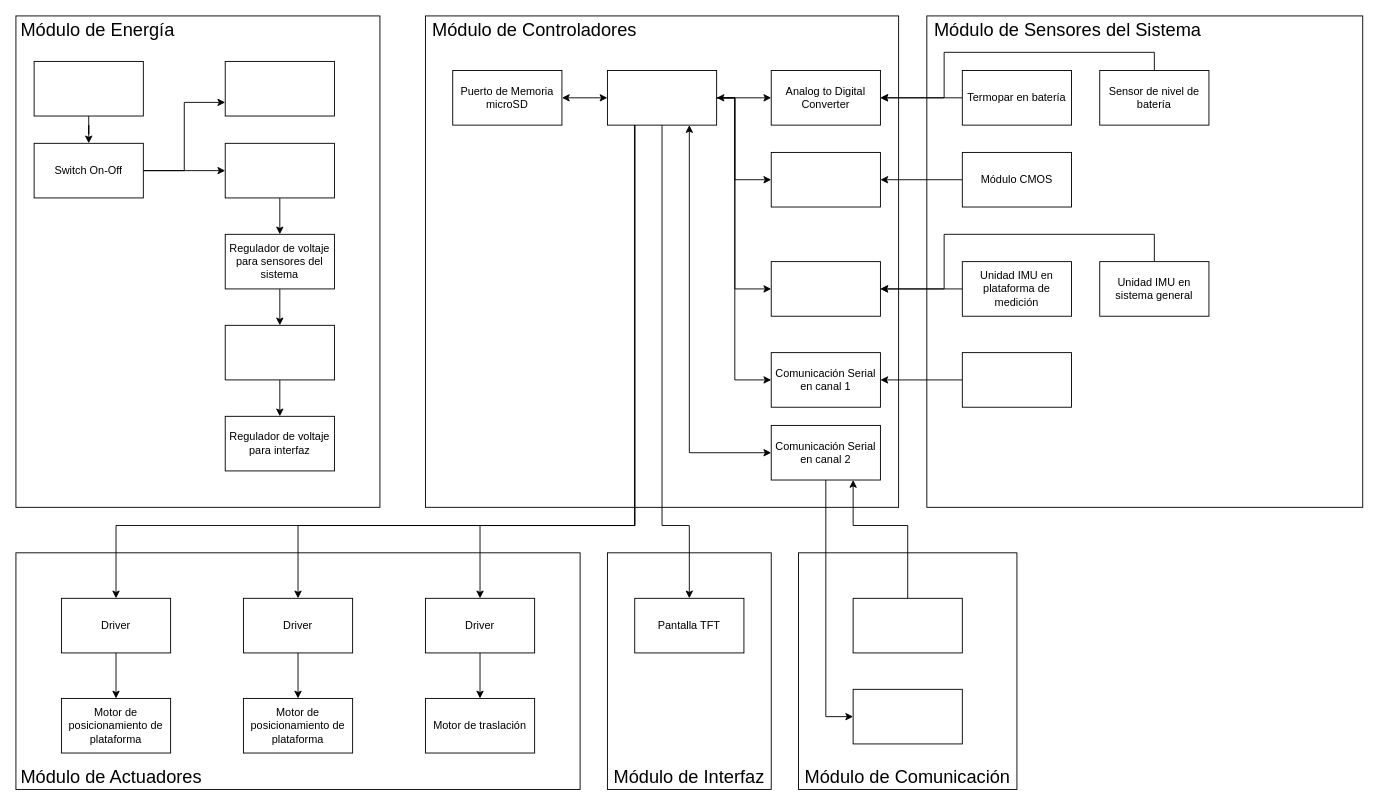
The diagram is 1379 pixels wide and 805 high, and some of its shapes have lost their labels. The shapes that lost their labels are listed below. From the top down, each one's centre as x and y in pixels, then its label:
At point 88,88: "Batería".
At point 279,88: "Regulador de voltaje para sensores meteorológicos".
At point 662,97: "Single Board Computer".
At point 279,170: "Regulador de voltaje para actuadores".
At point 825,179: "Camera Serial Interface".
At point 825,288: "I2C".
At point 279,352: "Regulador de voltaje para controladores y comunicación".
At point 1016,379: "Sensor de Ultrasonido".
At point 907,625: "Módulo GPS".
At point 907,716: "Módulo LoRa".
